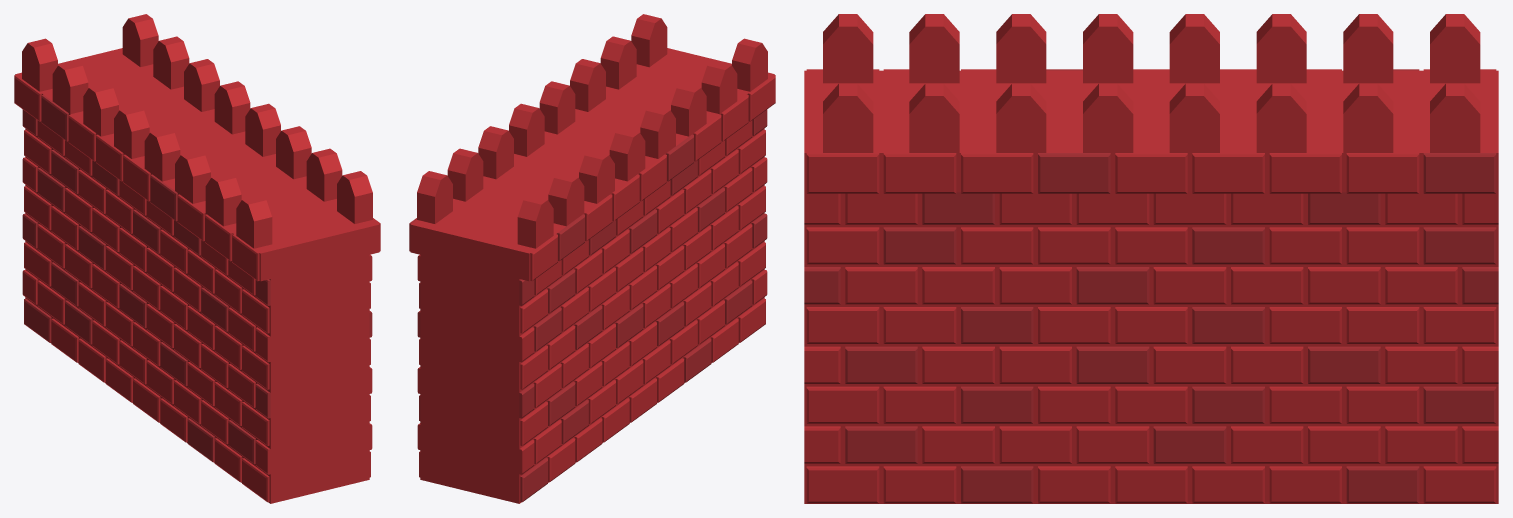
The model's file is wall_test_rough.glb.
3 renders of one model, left to right at view 1: azimuth 30°, elevation 25°; view 2: azimuth 150°, elevation 25°; view 3: azimuth 270°, elevation 25°, orthographic. The views are drawn at different scales.
Visible parts, largest first — view 1: Wall.Primary10, Wall.Secondary10; view 2: Wall.Primary10, Wall.Secondary10; view 3: Wall.Primary10, Wall.Secondary10.
Part boxes in pixels (<box>): Wall.Primary10: <box>14,14,380,503</box>; Wall.Secondary10: <box>22,94,372,464</box>; Wall.Primary10: <box>410,14,775,503</box>; Wall.Secondary10: <box>409,109,767,502</box>; Wall.Primary10: <box>804,14,1498,503</box>; Wall.Secondary10: <box>804,69,1498,503</box>.
Size of the model in its own units: 0.8801 by 1.98 by 3.
Materials: 1 (1 with a texture image).
